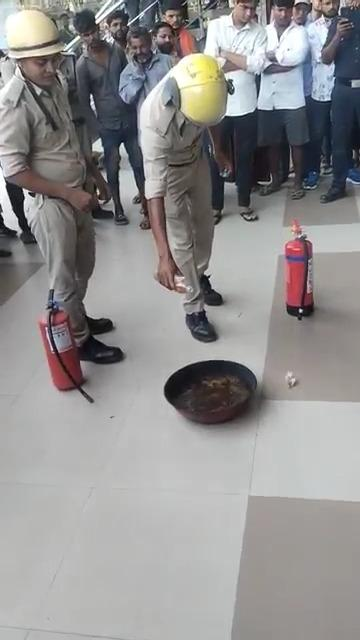FireExtinguisher: (36, 293, 90, 402), (273, 219, 322, 323)
